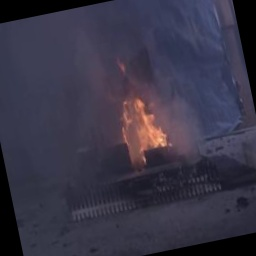fire: (113, 77, 173, 163)
